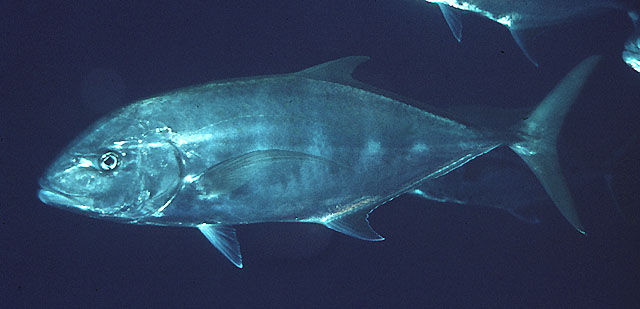fish: (35, 55, 609, 269)
